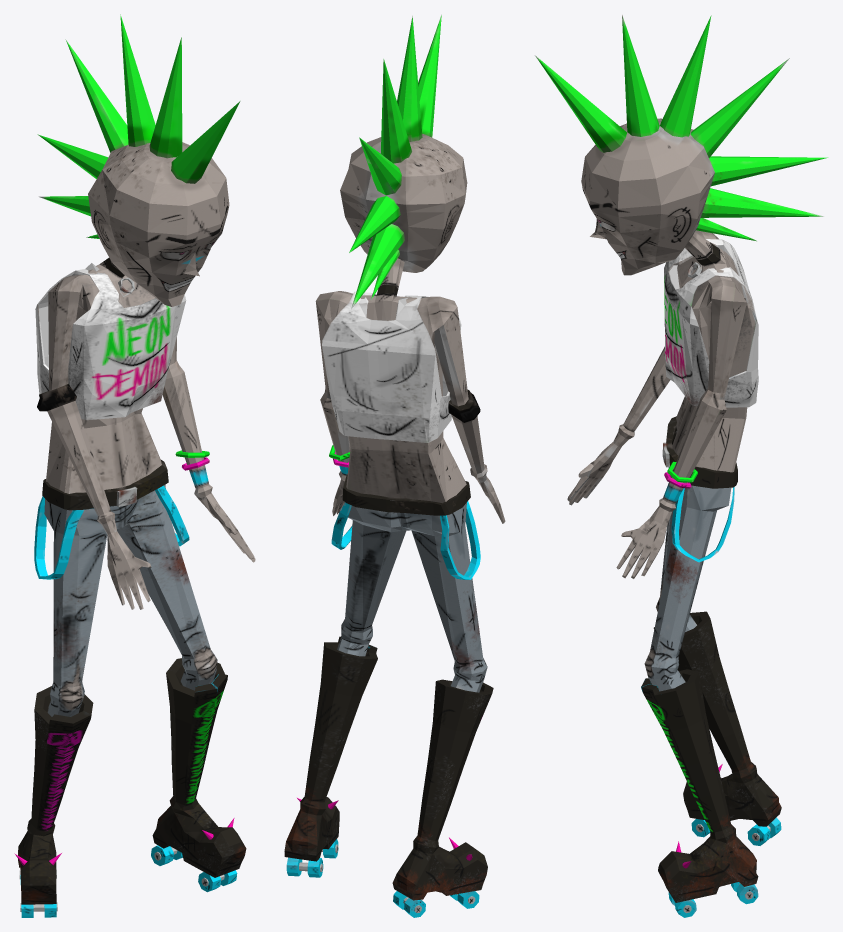
Rendered from punkAnimation_000046.obj.
3 renders of one model, left to right at view 1: azimuth 30°, elevation 25°; view 2: azimuth 150°, elevation 25°; view 3: azimuth 270°, elevation 25°, orthographic. The views are drawn at different scales.
Visible parts, largest first — view 1: Cube.004_Cube.003; view 2: Cube.004_Cube.003; view 3: Cube.004_Cube.003.
Part boxes in pixels (bbox=[...]): Cube.004_Cube.003: bbox=[14, 14, 255, 917]; Cube.004_Cube.003: bbox=[284, 15, 505, 917]; Cube.004_Cube.003: bbox=[535, 15, 827, 917].
Bounding box in the file's own units: 1.82 × 7.43 × 2.29.
